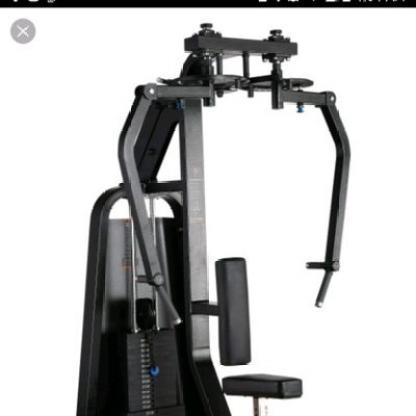chest fly machine: (63, 16, 358, 416)
